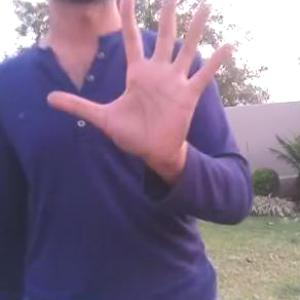follow_hand: (46, 0, 240, 169)
